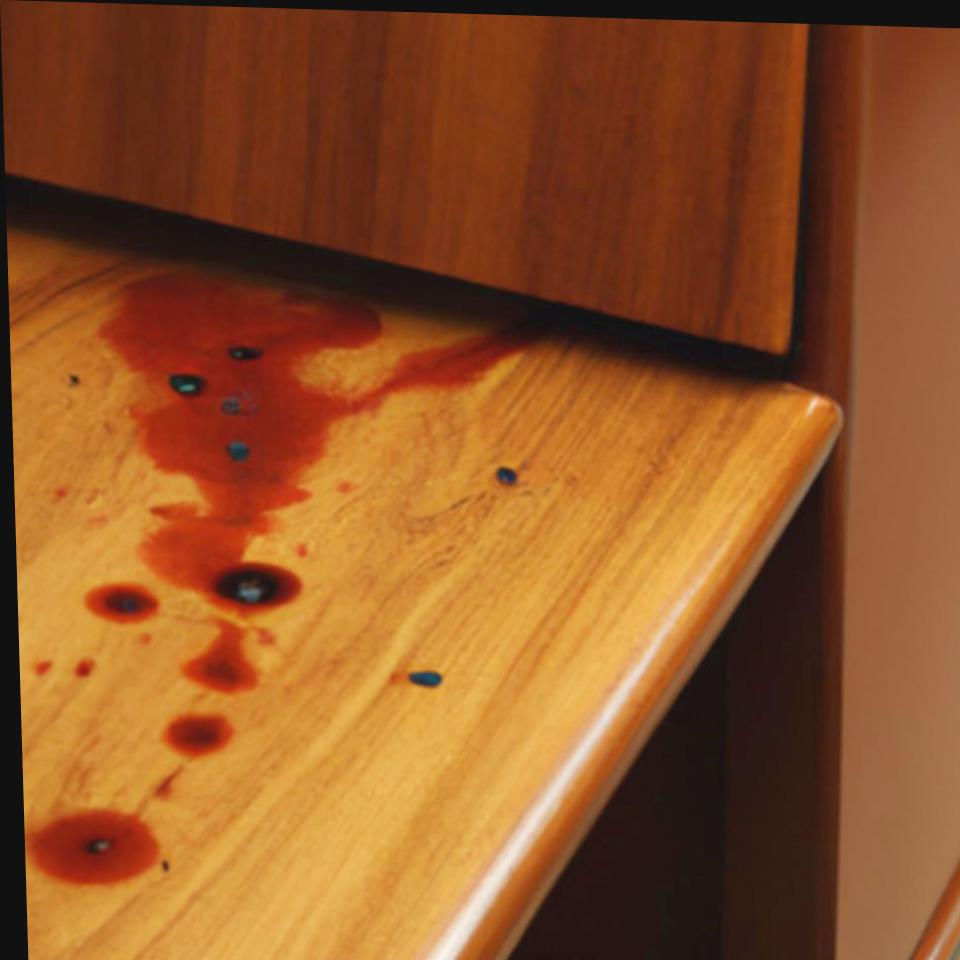Fire: (90, 266, 538, 619), (19, 808, 156, 885), (167, 610, 275, 694), (155, 710, 231, 756), (71, 656, 92, 677), (31, 661, 50, 675)
